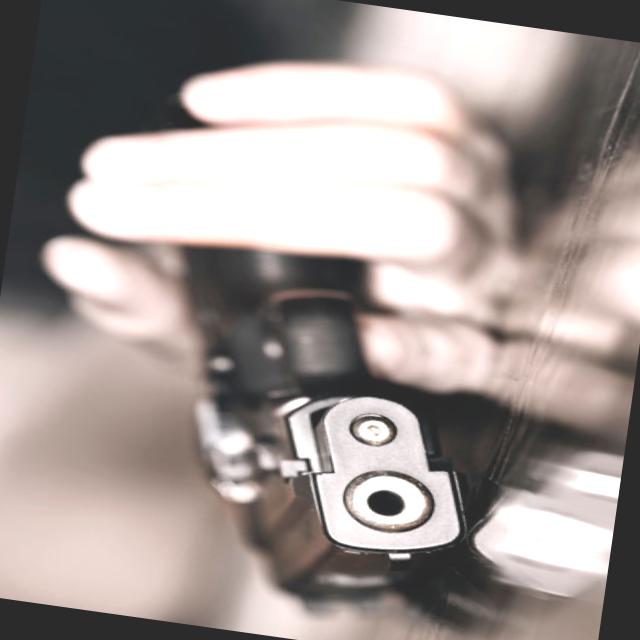handgun: (136, 164, 511, 622)
